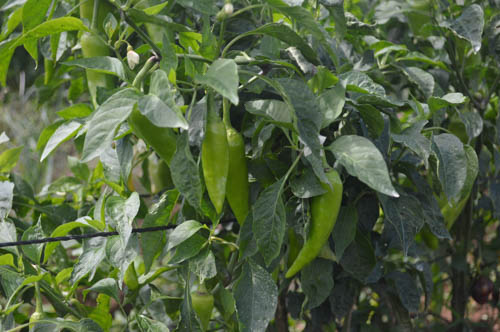ChiliPepper: (280, 176, 348, 284), (201, 119, 229, 217), (128, 108, 177, 161), (224, 128, 251, 222), (76, 37, 112, 106), (186, 293, 221, 320)
